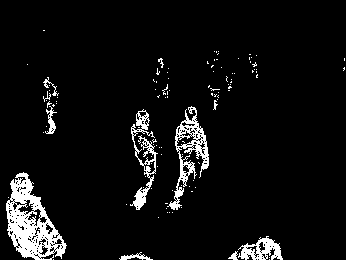person: (167, 105, 211, 212), (125, 108, 159, 212), (41, 75, 60, 135)
